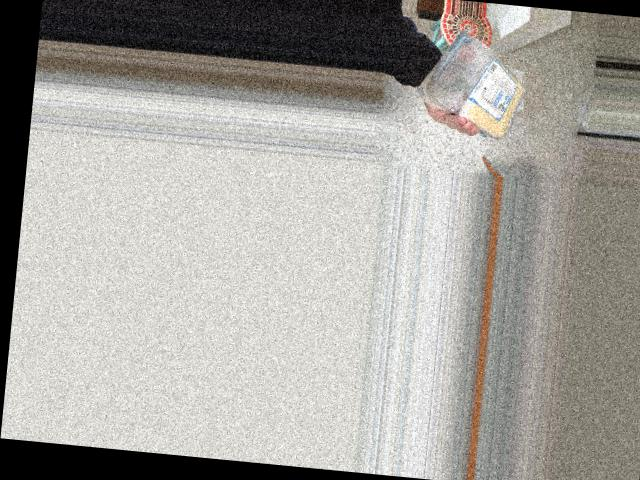cheese: (429, 27, 537, 129)
